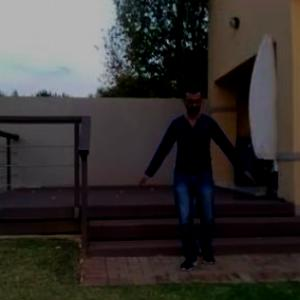land: (144, 82, 256, 266)
